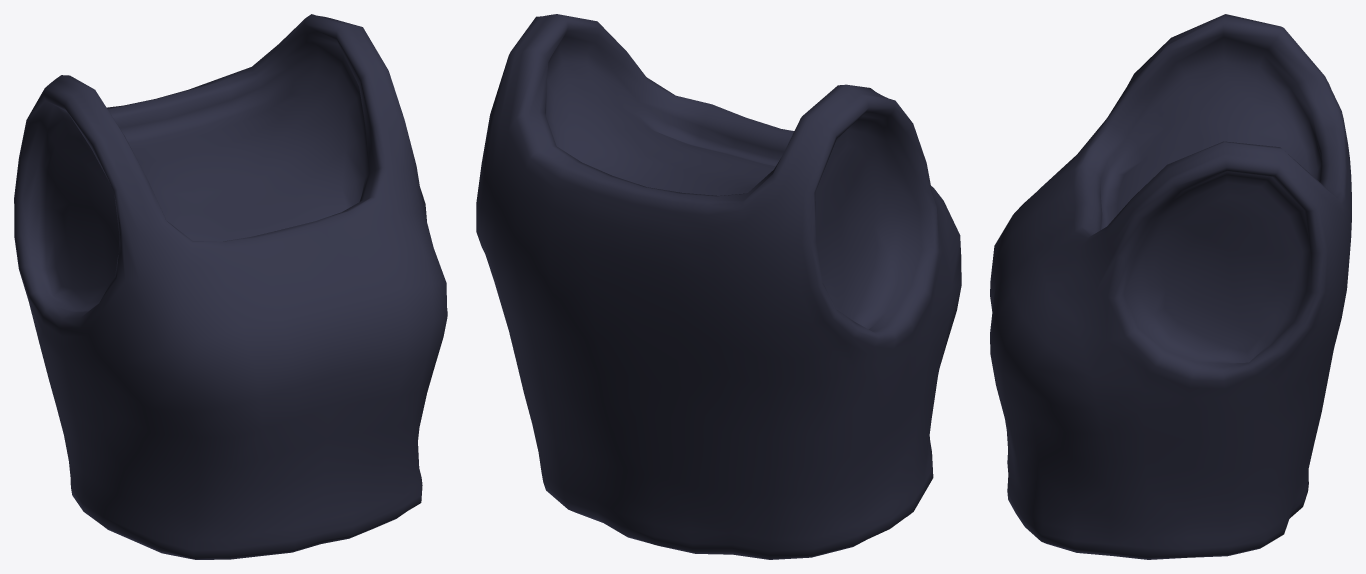
File: tpp3_l.fbx
3 views of the same model, side by side, from view 1: azimuth 30°, elevation 25°; view 2: azimuth 150°, elevation 25°; view 3: azimuth 270°, elevation 25° (orthographic). The views are drawn at different scales.
Visible parts, largest first — view 1: top3_l; view 2: top3_l; view 3: top3_l.
Part boxes in pixels (x1,y1,x2,y2): top3_l: [14, 14, 447, 559]; top3_l: [476, 14, 961, 559]; top3_l: [990, 14, 1351, 559].
Bounding box in the file's own units: 20.01 × 23.06 × 18.11.
